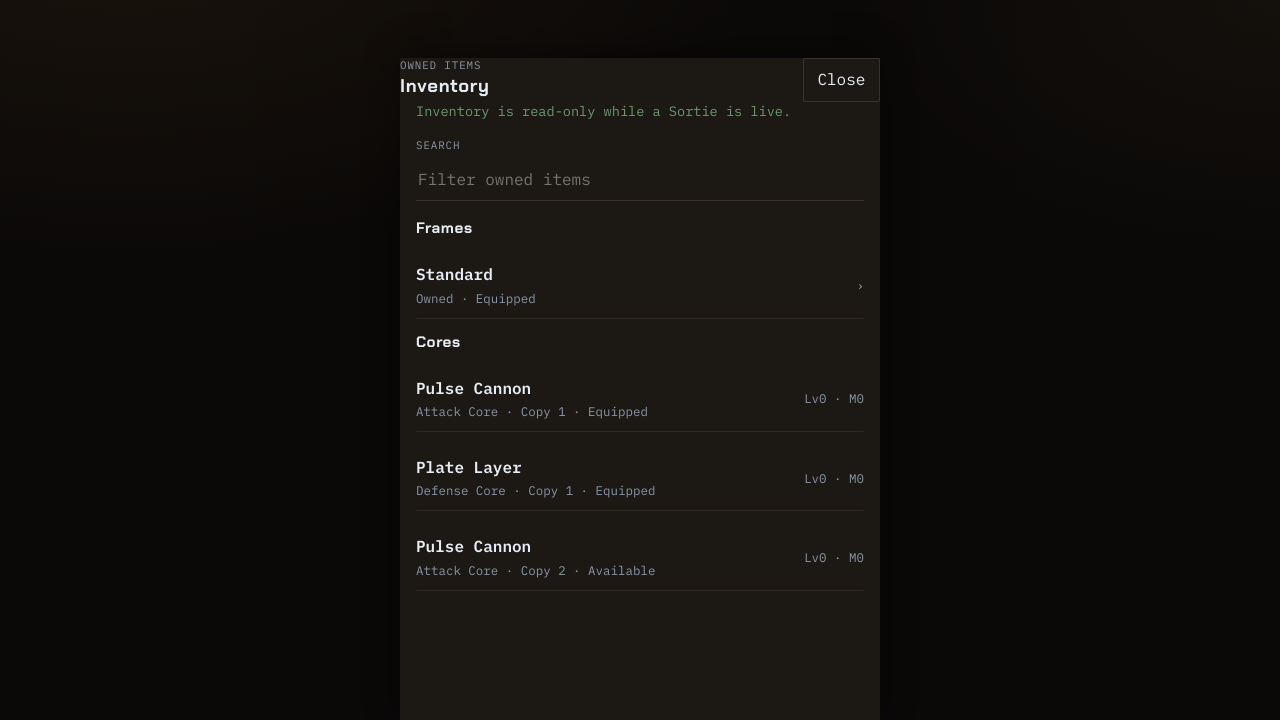
Scenario: Loadout and Inventory navigation › makes Inventory visibly read-only during a suspended live Sortie
Expected: the text "Inventory is read-only while a Sortie is live." is shown, [416,102,791,120]
Click the button "Pulse Cannon Attack Core · Copy 2 · Available Lv0 · M0" at (474, 546), box [416,523,864,591]
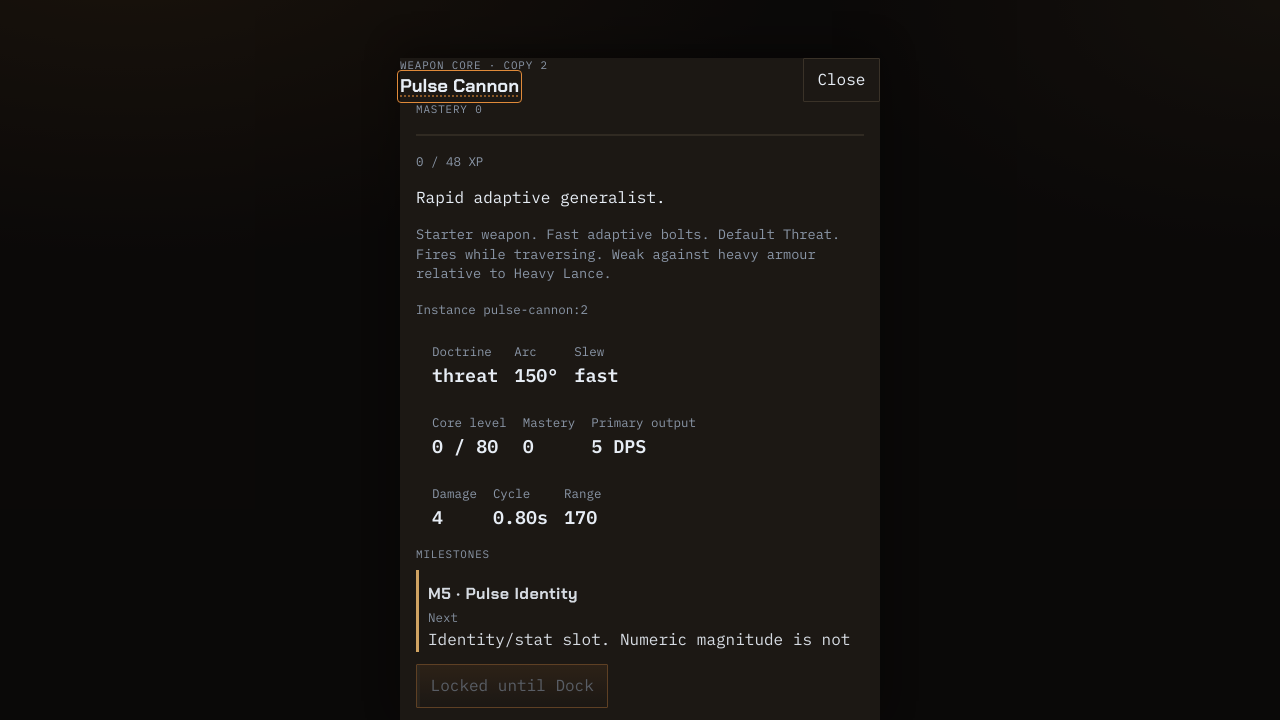
Result: the button "Locked until Dock" is disabled at [416,664,608,708]
